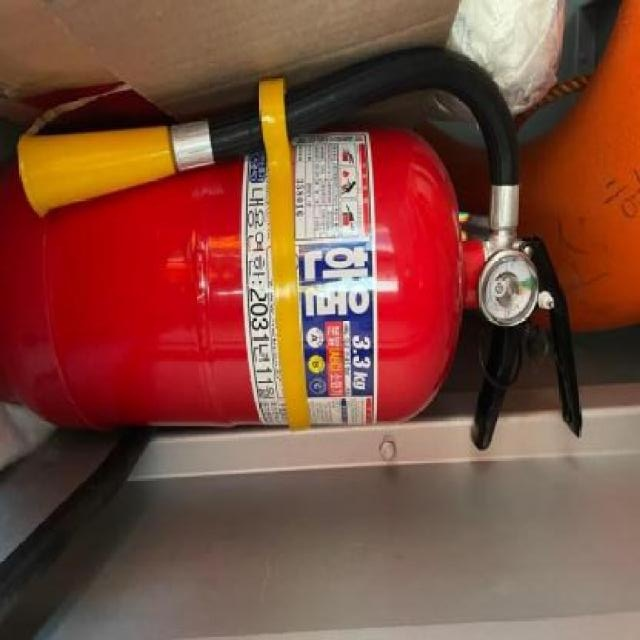fire extinguisher: (0, 46, 583, 451)
